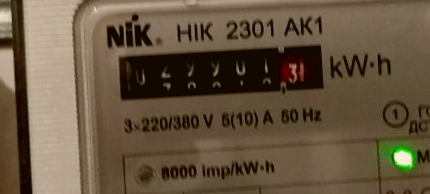0: (231, 51, 248, 77), (131, 63, 147, 86)
1: (258, 50, 272, 74)
2: (157, 56, 173, 79)
3: (284, 60, 300, 84)
9: (208, 55, 221, 78), (183, 55, 196, 77)
screen: (109, 35, 333, 110)
